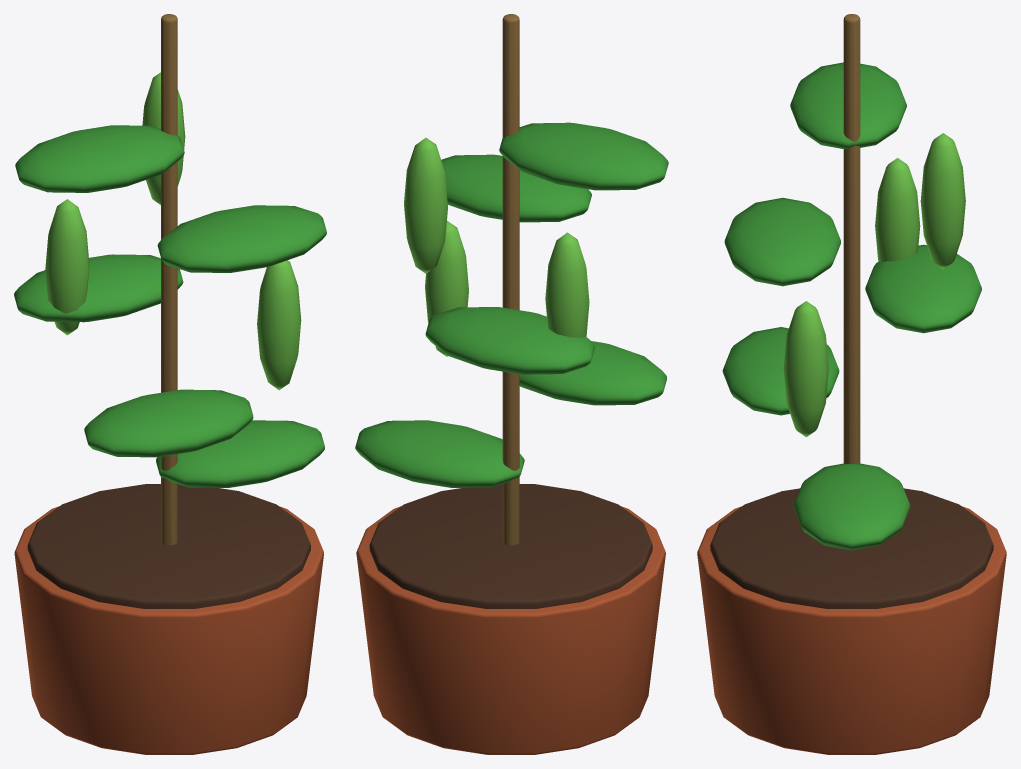
Rendered from pe_ervilha.glb.
3 renders of one model, left to right at view 1: azimuth 30°, elevation 25°; view 2: azimuth 150°, elevation 25°; view 3: azimuth 270°, elevation 25°, orthographic.
Parts seen in each view (by area): view 1: pe_ervilha; view 2: pe_ervilha; view 3: pe_ervilha.
Boxes of the visible parts, box(x1,y1,x2,y2) form: pe_ervilha: box(14, 14, 326, 754); pe_ervilha: box(355, 14, 668, 754); pe_ervilha: box(697, 14, 1006, 754).
Size of the model in its own units: 0.7686 by 1.65 by 0.6783.
